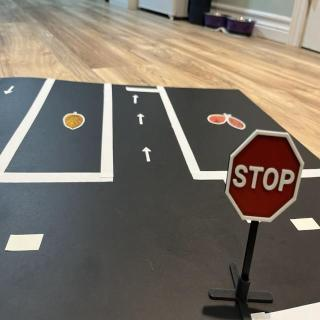road_oneway: (142, 146, 155, 168), (4, 84, 18, 98), (136, 113, 146, 129), (132, 95, 140, 107)
sign_stop: (227, 131, 305, 221)
